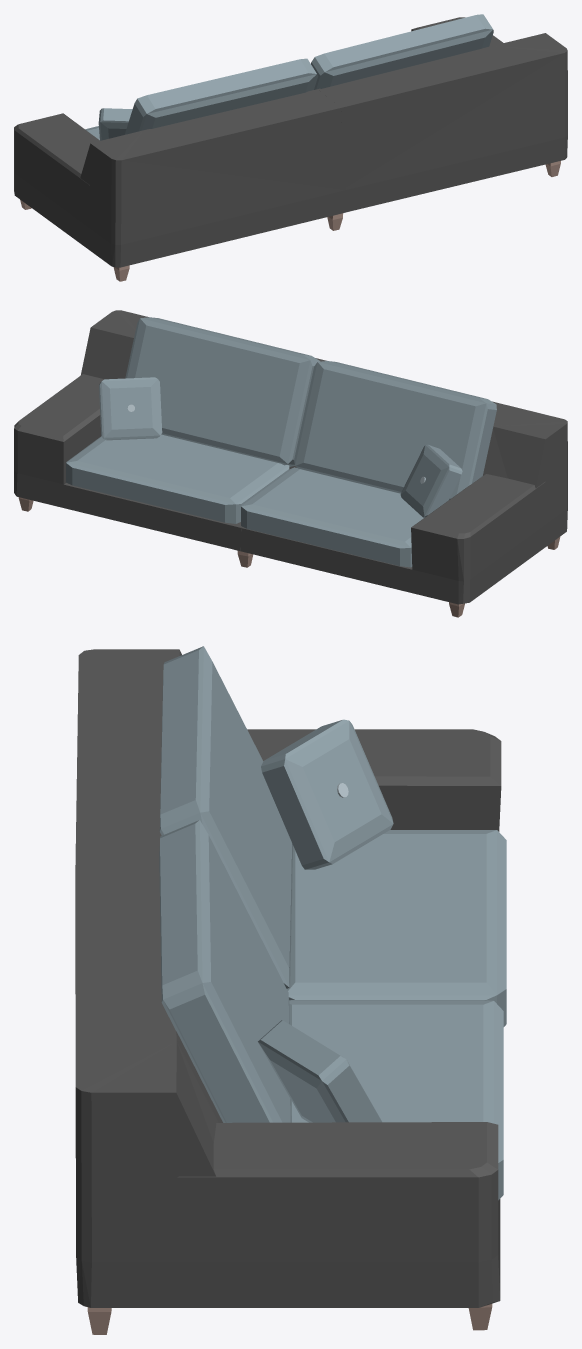
The model's file is divans.gltf.
3 renders of one model, top to bottom at view 1: azimuth 30°, elevation 25°; view 2: azimuth 150°, elevation 25°; view 3: azimuth 270°, elevation 25°, orthographic. The views are drawn at different scales.
Visible parts, largest first — view 1: Node; view 2: Node; view 3: Node.
Part boxes in pixels (x1,y1,x2,y2): Node: (14, 14, 567, 281); Node: (14, 310, 567, 617); Node: (75, 646, 506, 1334).
Bounding box in the file's own units: 1.57 × 0.5129 × 0.6435.
